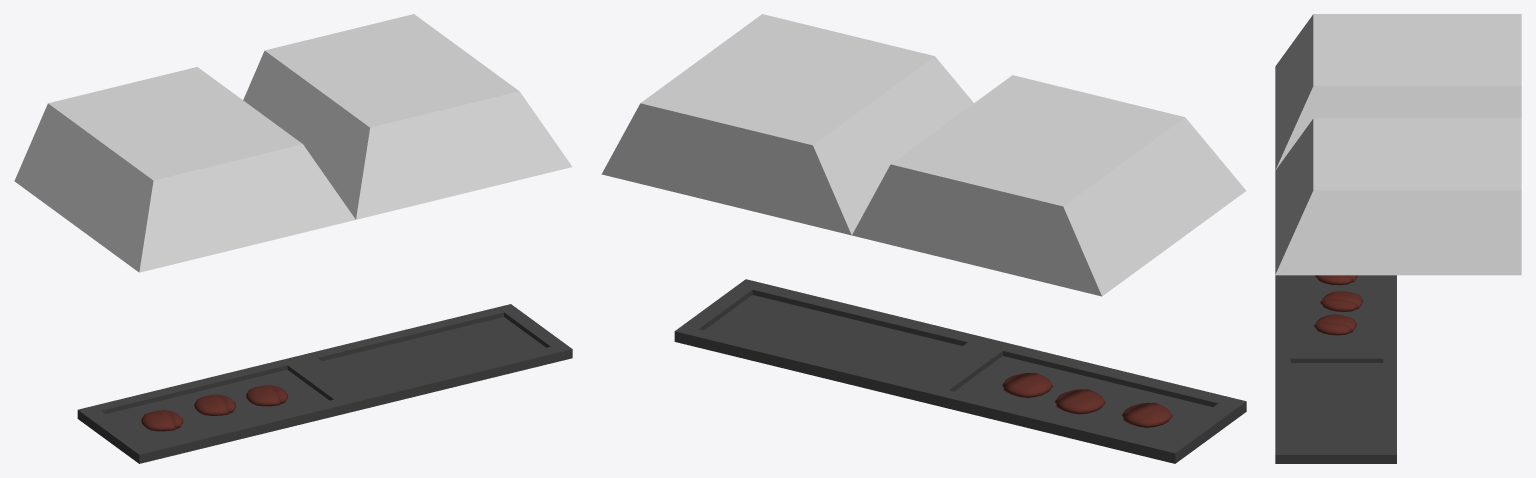
File: BurgerMachine.fbx
The picture shows the model from 3 angles, left to right: view 1: azimuth 30°, elevation 25°; view 2: azimuth 150°, elevation 25°; view 3: azimuth 270°, elevation 25°; orthographic projection. The views are drawn at different scales.
Visible parts, largest first — view 1: Cube.038; view 2: Cube.038; view 3: Cube.038.
Boxes of the visible parts, x1,y1,x2,y2 form: Cube.038: (14,14,572,463); Cube.038: (601,14,1246,463); Cube.038: (1275,14,1521,463).
Size of the model in its own units: 395 by 227 by 197.
